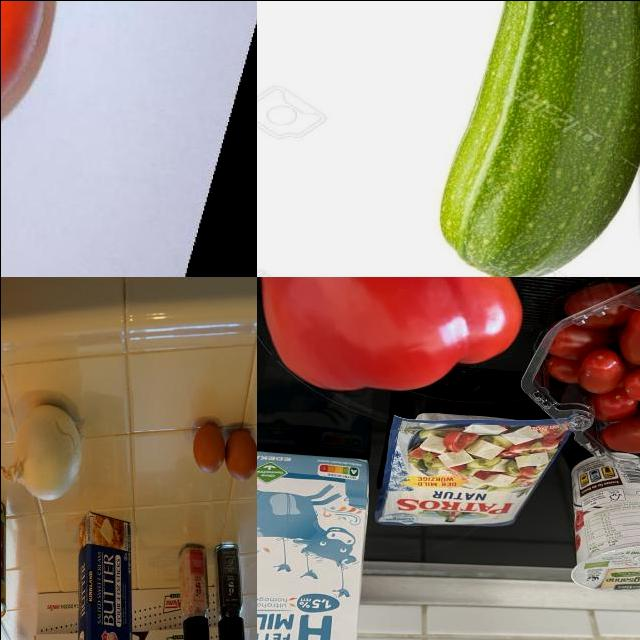bell_pepper: (257, 277, 539, 399), (211, 538, 249, 640)
egg: (191, 417, 225, 474), (227, 428, 257, 484)
onion: (1, 400, 89, 504)
tomato: (529, 277, 640, 428)
zucchini: (443, 1, 640, 277)
